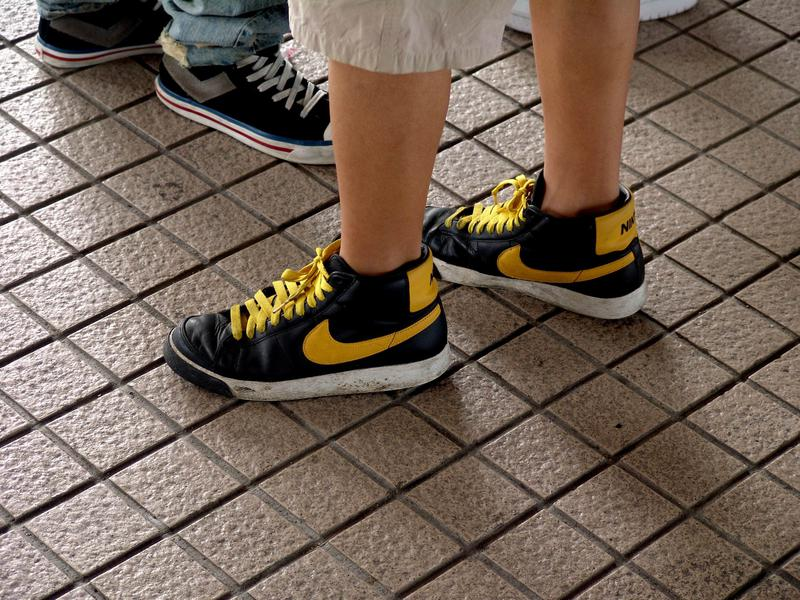nike: (303, 308, 438, 367), (497, 242, 635, 284)
